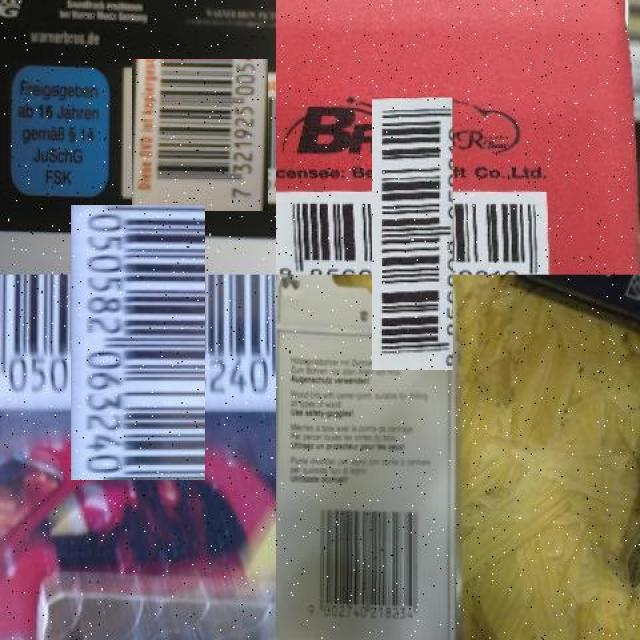Barcode: (36, 239, 240, 445), (324, 145, 501, 323), (292, 497, 440, 639), (128, 63, 272, 208)
